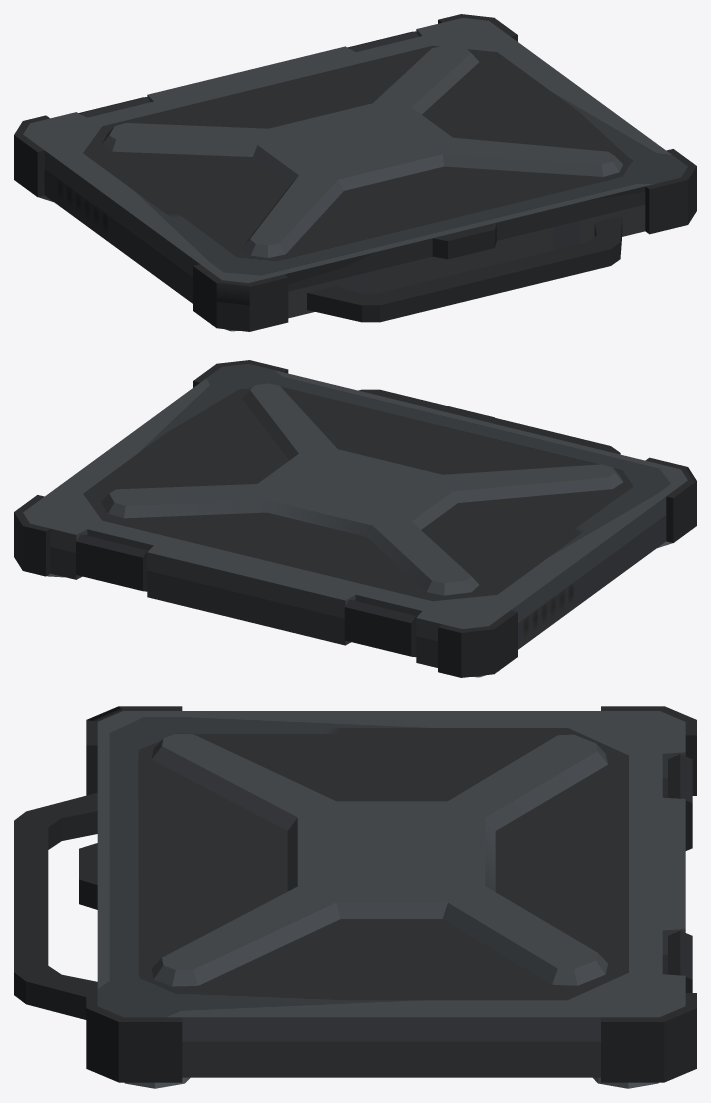
Rendered from SM_Prop_Laptop_01.fbx.
The picture shows the model from 3 angles, top to bottom: view 1: azimuth 30°, elevation 25°; view 2: azimuth 150°, elevation 25°; view 3: azimuth 270°, elevation 25°; orthographic projection. The views are drawn at different scales.
Parts seen in each view (by area): view 1: SM_Prop_Laptop_01; view 2: SM_Prop_Laptop_01; view 3: SM_Prop_Laptop_01.
Boxes of the visible parts, x1=… form: SM_Prop_Laptop_01: x1=14, y1=14, x2=696, y2=331; SM_Prop_Laptop_01: x1=14, y1=360, x2=696, y2=677; SM_Prop_Laptop_01: x1=14, y1=706, x2=696, y2=1088.
Size of the model in its own units: 53 by 6.64 by 48.45.
